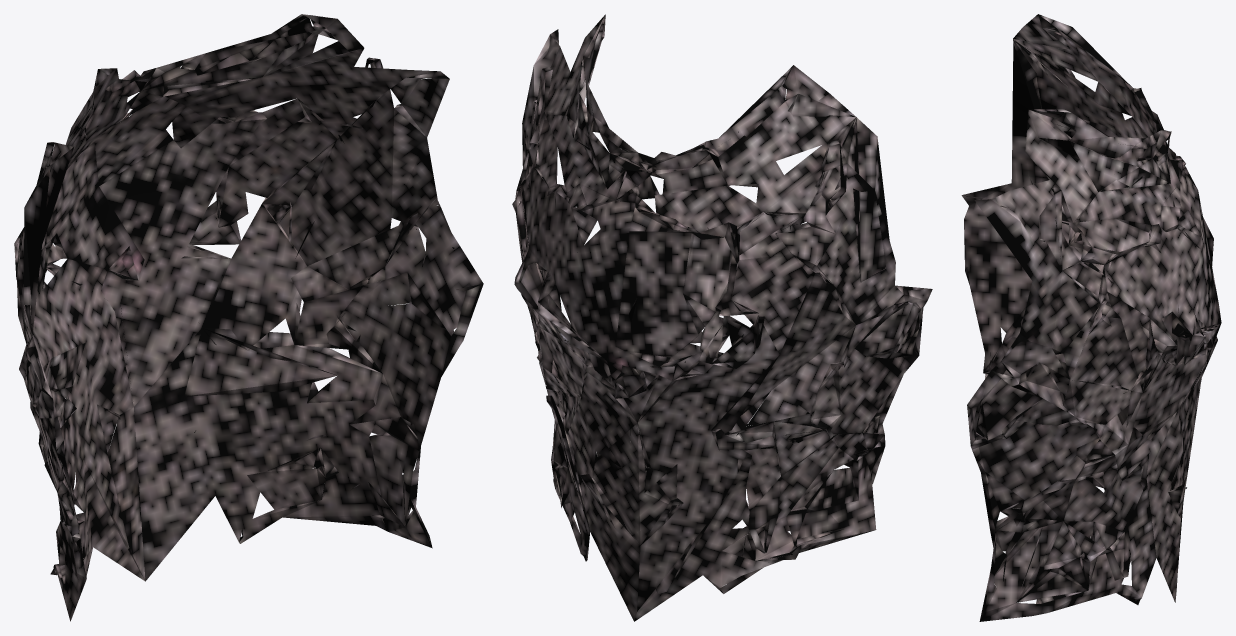
Rendered from vampire_chestplate_LOD3.glb.
3 views of the same model, side by side, from view 1: azimuth 30°, elevation 25°; view 2: azimuth 150°, elevation 25°; view 3: azimuth 270°, elevation 25° (orthographic). The views are drawn at different scales.
Parts seen in each view (by area): view 1: vampire_chestplate_LOD3; view 2: vampire_chestplate_LOD3; view 3: vampire_chestplate_LOD3.
Boxes of the visible parts, x1=… form: vampire_chestplate_LOD3: x1=14, y1=14, x2=483, y2=621; vampire_chestplate_LOD3: x1=512, y1=14, x2=932, y2=621; vampire_chestplate_LOD3: x1=961, y1=14, x2=1221, y2=621.
Size of the model in its own units: 0.5769 by 0.7418 by 0.3216.
Materials: 1 (1 with a texture image).
